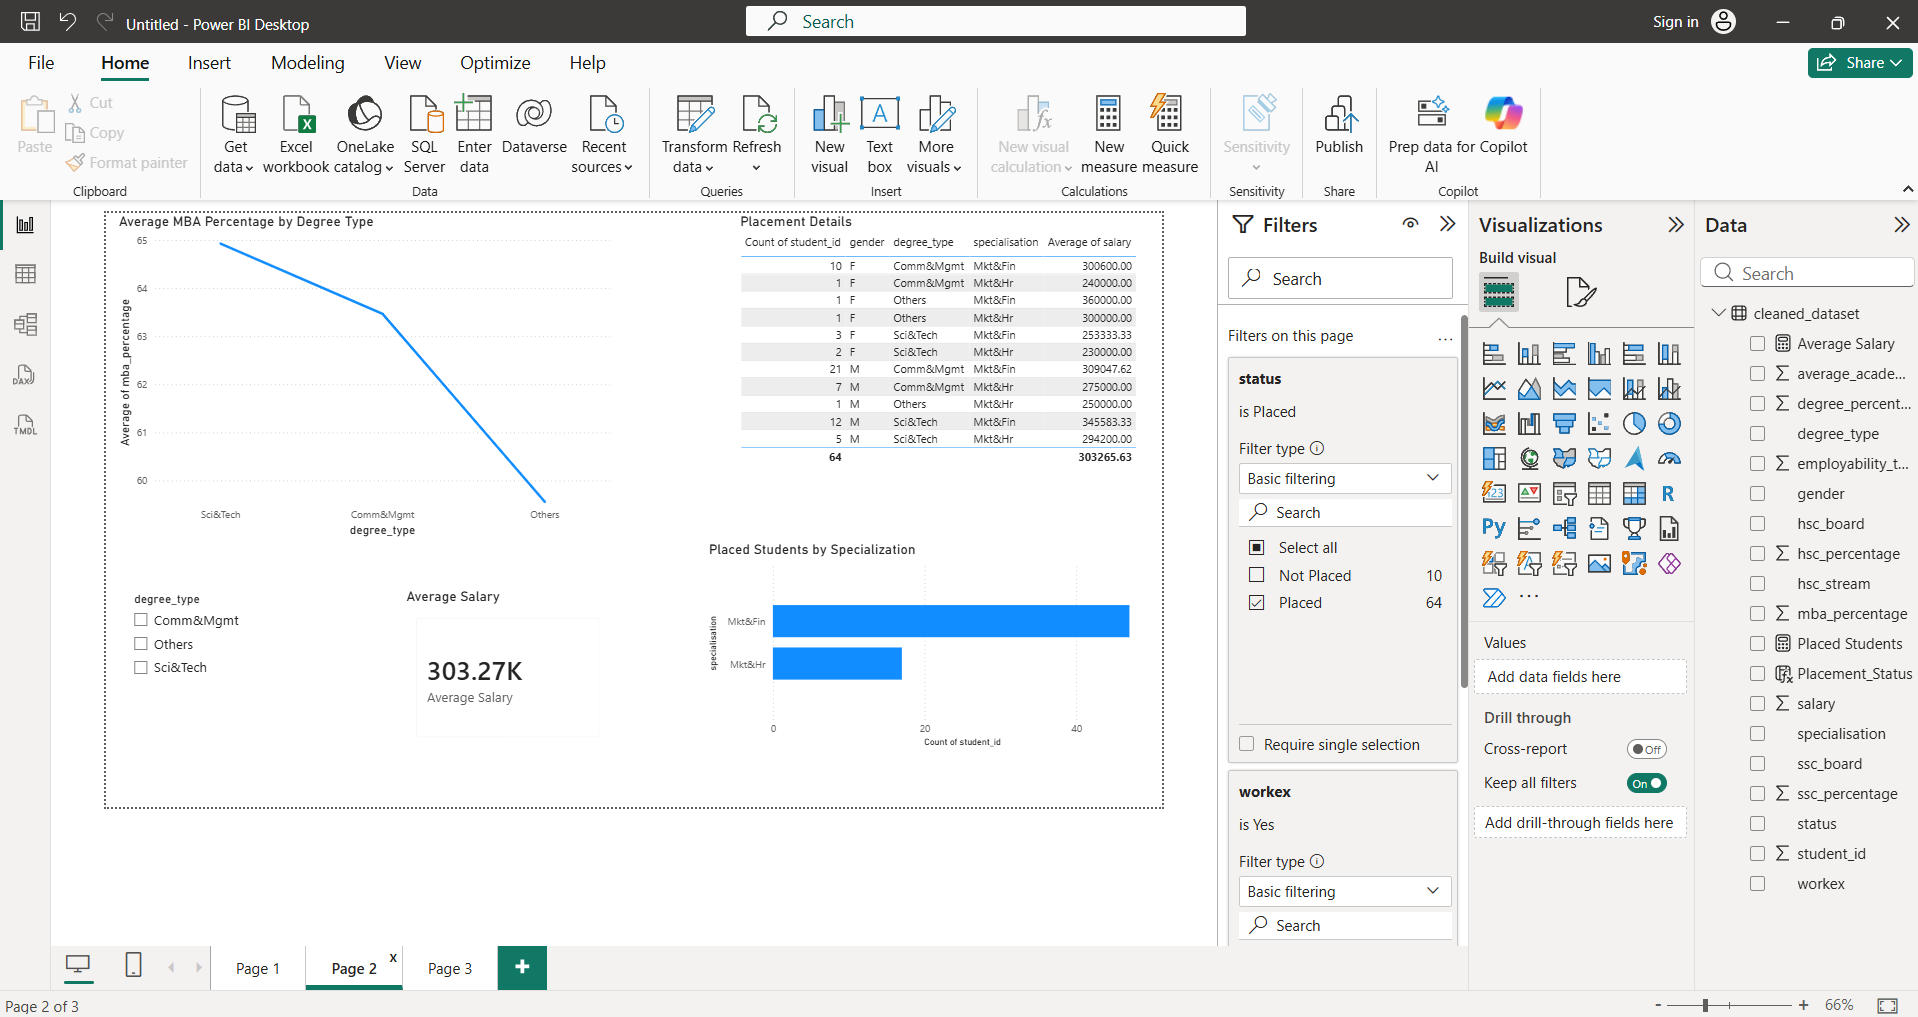

Layout of this report page (visuals, bound fields, positions):
{"tool":"powerbi","page":{"name":"Page 2","canvas":[1280,720],"ordinal":1},"visuals":[{"type":"lineChart","title":"Average MBA Percentage by Degree Type","fields":{"Category":["cleaned_dataset.degree_type"],"Y":["Avg(cleaned_dataset.mba_percentage)"]},"box":[10.3,0,605.1,397.4],"z":0},{"type":"tableEx","title":"Placed Student Details","fields":{"Values":["CountNonNull(cleaned_dataset.student_id)","cleaned_dataset.gender","cleaned_dataset.degree_type","cleaned_dataset.specialisation","Avg(cleaned_dataset.salary)"]},"box":[763.6,0,516.7,325.8],"z":1},{"type":"slicer","fields":{"Values":["cleaned_dataset.degree_type"]},"box":[21.2,454.5,269.7,186.4],"z":2},{"type":"clusteredBarChart","title":"Placed Students by Specialization ","fields":{"Category":["cleaned_dataset.specialisation"],"Y":["CountNonNull(cleaned_dataset.student_id)"]},"box":[725.8,397,554.5,256.1],"z":3},{"type":"cardVisual","title":"Average Salary","fields":{"Data":["cleaned_dataset.Average Salary"]},"box":[359.1,454.5,256.1,198.5],"z":4}]}

Visuals, with their boxes on the page's 1280x720 design canvas (x1, y1, x2, y2). These are canvas units, not pixel positions in the 1918x1017 screenshot, which may show the page scaled, cropped or inside an application window:
"Average MBA Percentage by Degree Type" lineChart: bbox=[10, 0, 615, 397]
"Placed Student Details" tableEx: bbox=[764, 0, 1280, 326]
slicer - cleaned_dataset.degree_type: bbox=[21, 454, 291, 641]
"Placed Students by Specialization " clusteredBarChart: bbox=[726, 397, 1280, 653]
"Average Salary" cardVisual: bbox=[359, 454, 615, 653]
